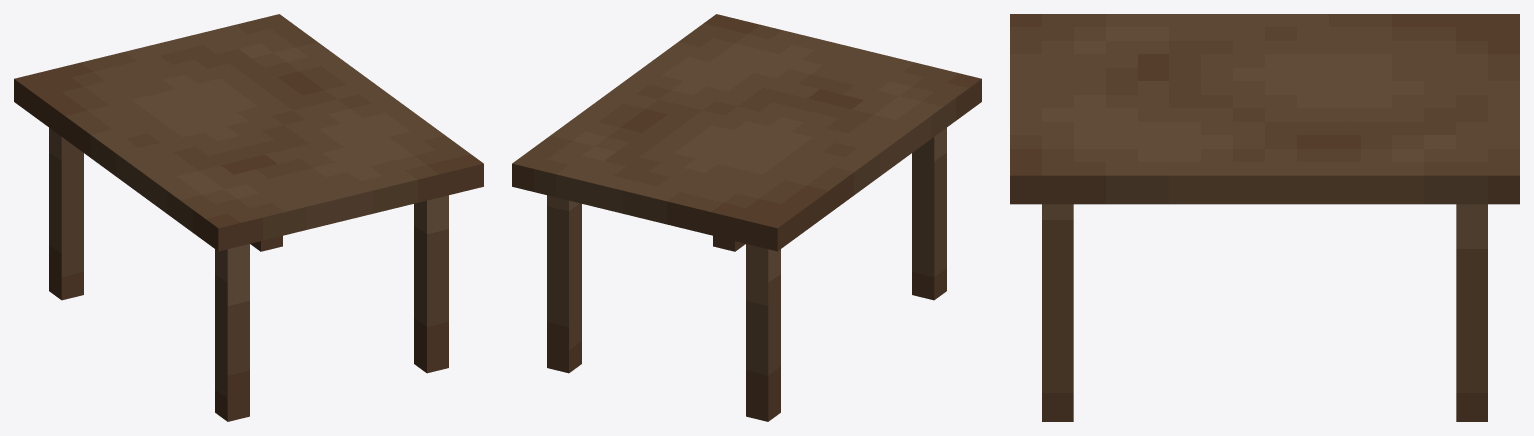
The model's file is Table.fbx.
3 renders of one model, left to right at view 1: azimuth 30°, elevation 25°; view 2: azimuth 150°, elevation 25°; view 3: azimuth 270°, elevation 25°, orthographic. The views are drawn at different scales.
Parts seen in each view (by area): view 1: cube_4, cube_2, cube_3, cube_1; view 2: cube_4, cube_1, cube, cube_2; view 3: cube_4, cube, cube_3.
Boxes of the visible parts, box(x1,y1,x2,y2) form: cube_4: box(14, 14, 483, 251); cube_2: box(215, 244, 249, 421); cube_3: box(414, 195, 448, 373); cube_1: box(49, 128, 83, 300); cube_4: box(512, 14, 981, 251); cube_1: box(746, 244, 780, 421); cube: box(547, 195, 581, 373); cube_2: box(912, 128, 946, 300); cube_4: box(1010, 14, 1519, 204); cube: box(1456, 204, 1487, 421); cube_3: box(1042, 204, 1073, 421).
Bounding box in the file's own units: 75 × 56.25 × 100.
1 material, 1 textured.
